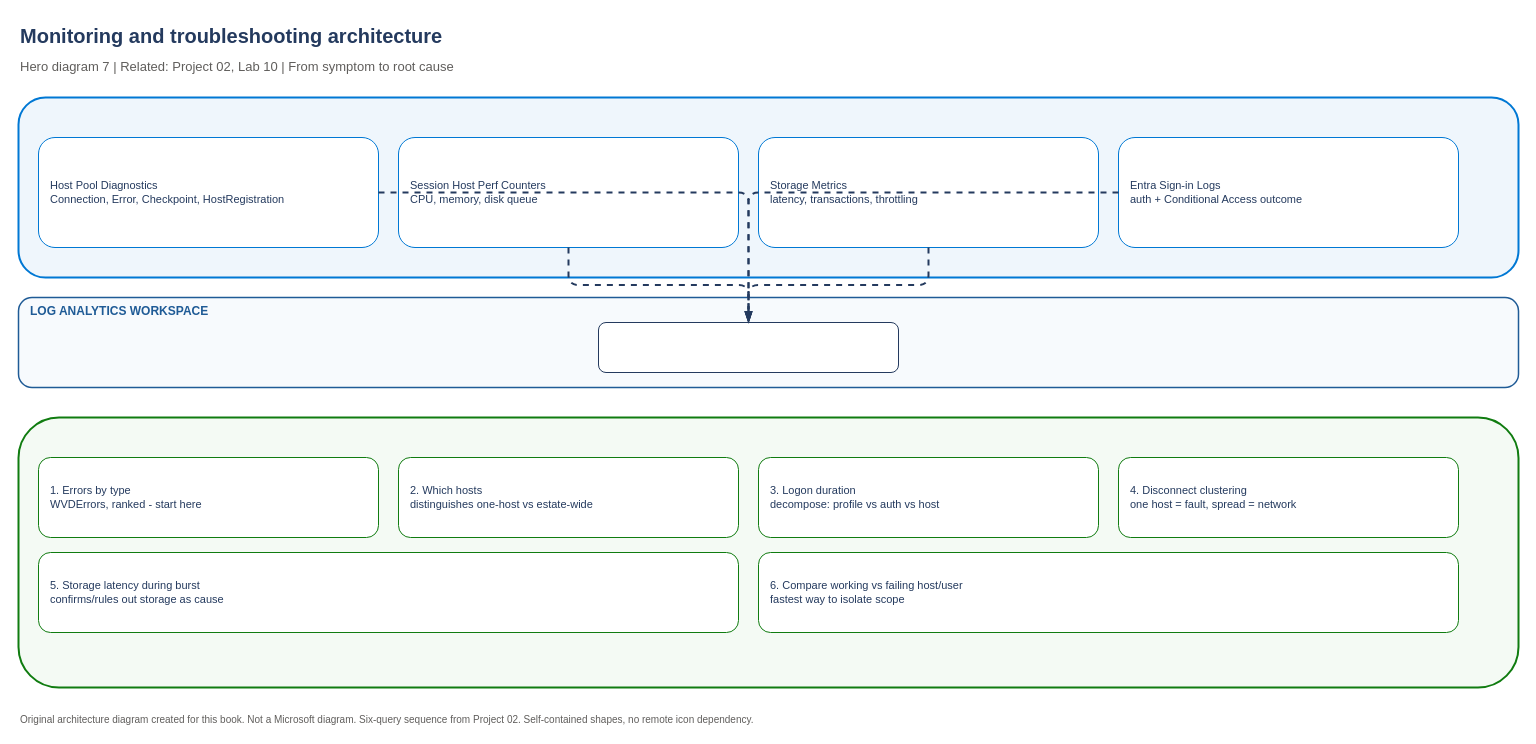
This 1536x744 diagram has some shape labels left out. Each missing label, with the box of its shape:
Central Workspace single source of truth for triage: (598, 322, 898, 372)
DATA COLLECTION - OPT IN, NOT AUTOMATIC: (17, 96, 1519, 278)
TRIAGE - THE DECOMPOSITION THAT SAVES HOURS: (17, 416, 1519, 688)
